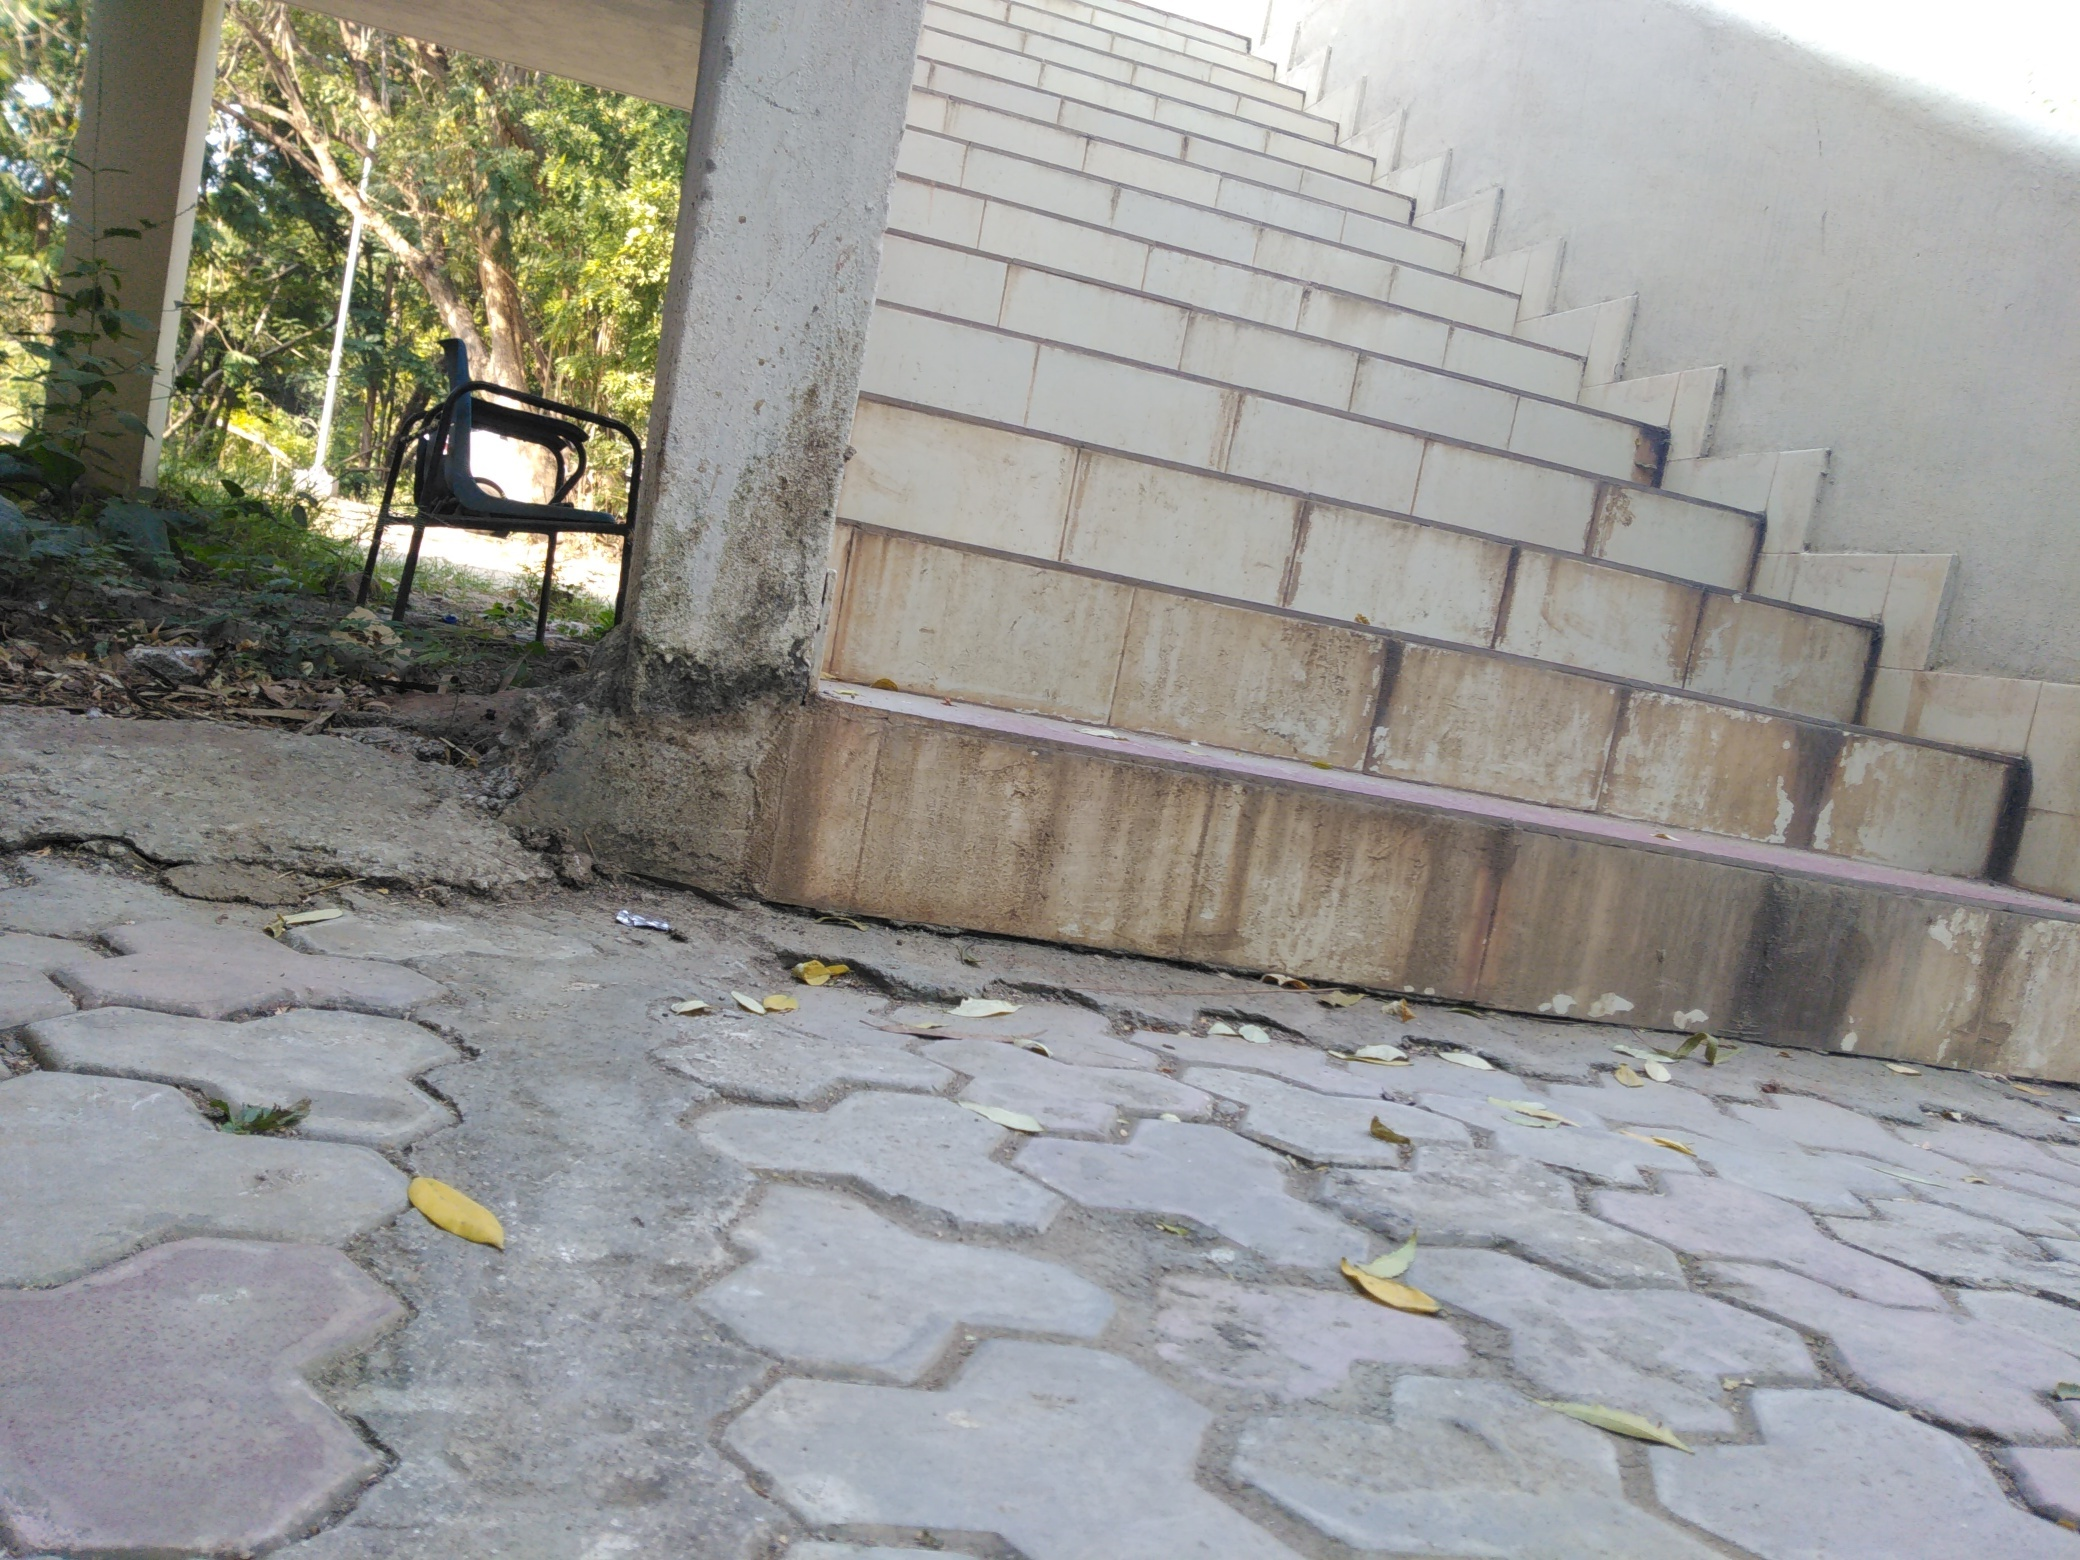stairs_up: (861, 29, 2028, 1078)
